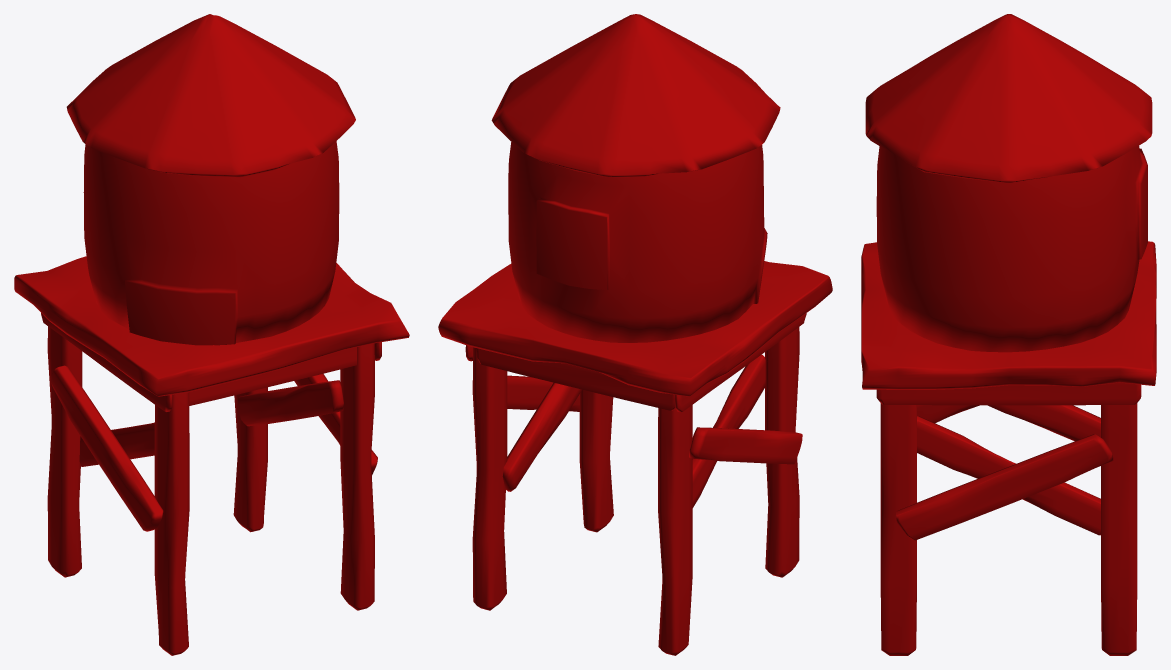
File: watertower_Low.fbx
The picture shows the model from 3 angles, left to right: view 1: azimuth 30°, elevation 25°; view 2: azimuth 150°, elevation 25°; view 3: azimuth 270°, elevation 25°; orthographic projection. The views are drawn at different scales.
Parts seen in each view (by area): view 1: pCube51; view 2: pCube51; view 3: pCube51.
Boxes of the visible parts, box(x1,y1,x2,y2) form: pCube51: box(14, 14, 409, 655); pCube51: box(438, 14, 832, 655); pCube51: box(861, 14, 1156, 655).
Size of the model in its own units: 31.83 by 68.7 by 31.07.
